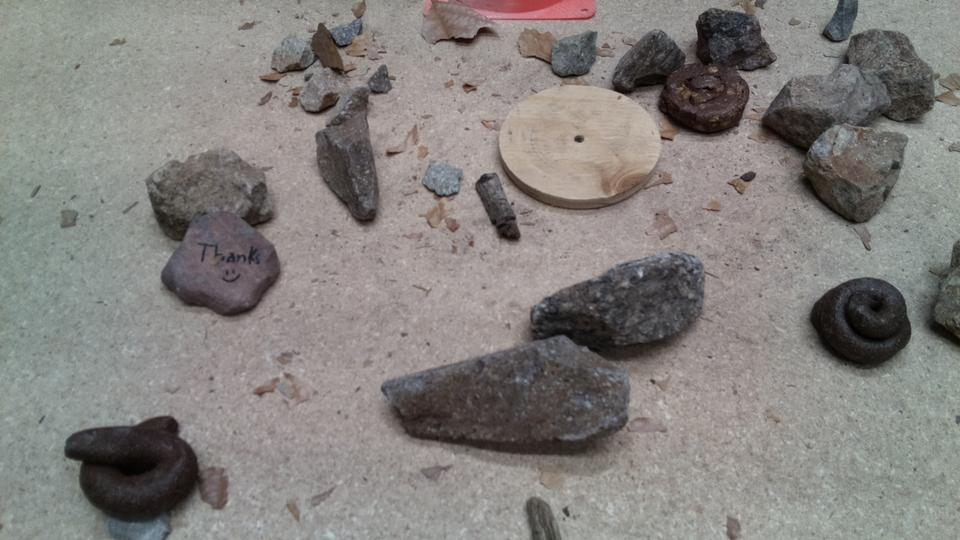poop: (61, 410, 202, 522), (809, 274, 915, 371), (657, 60, 753, 135)
